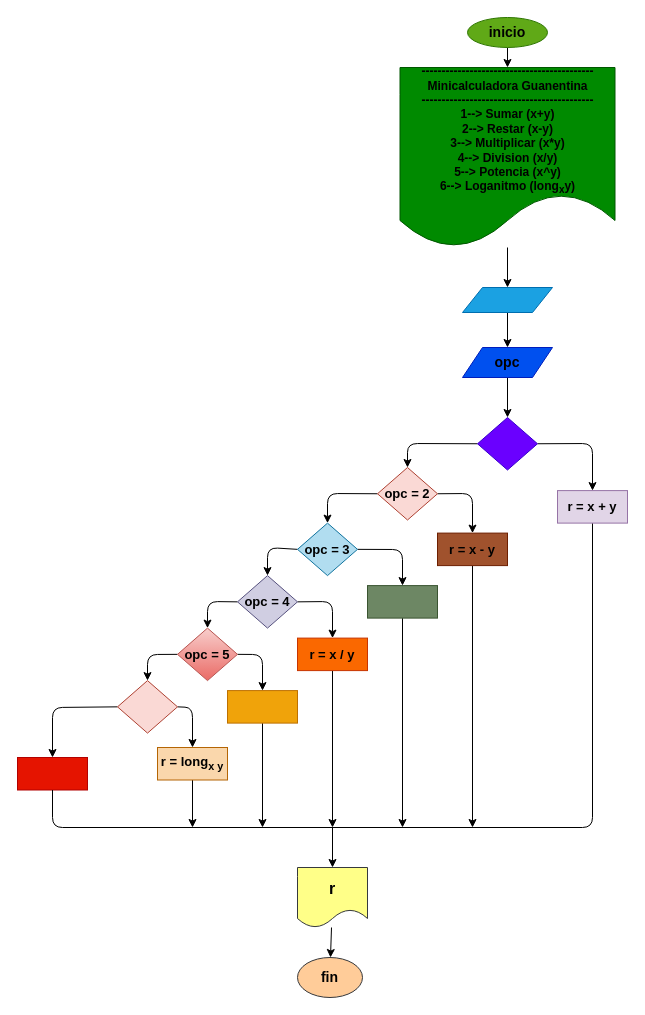
This 645x1015 diagram has some shape labels left out. The box of each missing label's shape, as (x1, y1, x2, y2) in pixels:
opc = 1: (476, 416, 538, 470)
opc = 6: (116, 680, 178, 733)
r = "No valido": (16, 756, 88, 790)
r = x * y: (366, 585, 438, 618)
r = x ^ y: (226, 690, 298, 723)
x,y: (462, 286, 552, 312)
